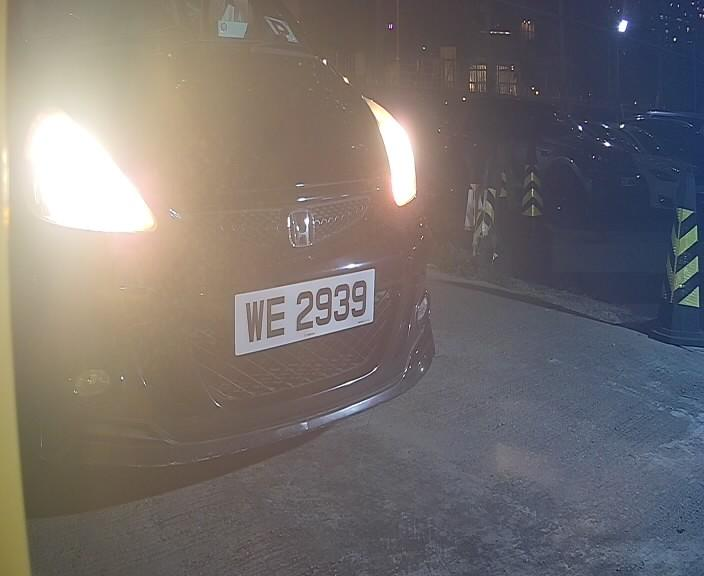License Plate: (224, 258, 384, 369)
